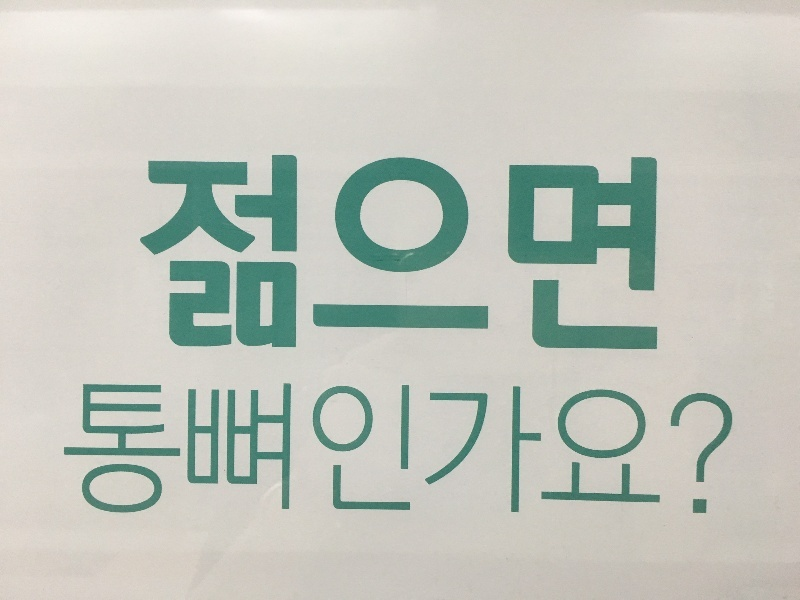text: (145, 154, 160, 356), (161, 154, 176, 356), (177, 154, 192, 356), (193, 154, 208, 356), (209, 154, 224, 356), (225, 154, 240, 356), (241, 154, 256, 356), (257, 154, 272, 356), (273, 154, 288, 356), (289, 154, 304, 356), (305, 154, 320, 356), (321, 154, 336, 356), (337, 154, 352, 356), (353, 154, 368, 356), (369, 154, 384, 356), (385, 154, 400, 356), (401, 154, 416, 356), (417, 154, 432, 356), (433, 154, 448, 356), (449, 154, 464, 356), (465, 154, 480, 356), (481, 154, 496, 356), (497, 154, 512, 356), (513, 154, 528, 356), (529, 154, 544, 356), (545, 154, 560, 356), (561, 154, 576, 356), (577, 154, 592, 356), (593, 154, 608, 356), (609, 154, 624, 356), (625, 154, 640, 356), (641, 154, 656, 356), (81, 381, 96, 524), (97, 381, 112, 524), (113, 381, 128, 524), (129, 381, 144, 524), (145, 381, 160, 524), (161, 381, 176, 524), (177, 381, 192, 524), (193, 381, 208, 524), (209, 381, 224, 524), (225, 381, 240, 524), (241, 381, 256, 524), (257, 381, 272, 524), (273, 381, 288, 524), (289, 381, 304, 524), (305, 381, 320, 524), (321, 381, 336, 524), (337, 381, 352, 524), (353, 381, 368, 524), (369, 381, 384, 524), (385, 381, 400, 524), (401, 381, 416, 524), (417, 381, 432, 524), (433, 381, 448, 524), (449, 381, 464, 524), (465, 381, 480, 524), (481, 381, 496, 524), (497, 381, 512, 524), (513, 381, 528, 524), (529, 381, 544, 524), (545, 381, 560, 524), (561, 381, 576, 524), (577, 381, 592, 524), (593, 381, 608, 524), (609, 381, 624, 524), (625, 381, 640, 524), (641, 381, 656, 524), (657, 381, 672, 524), (673, 381, 688, 524), (689, 381, 704, 524), (705, 381, 720, 524), (721, 381, 736, 524), (140, 154, 144, 356), (657, 154, 660, 356), (77, 381, 80, 524)
